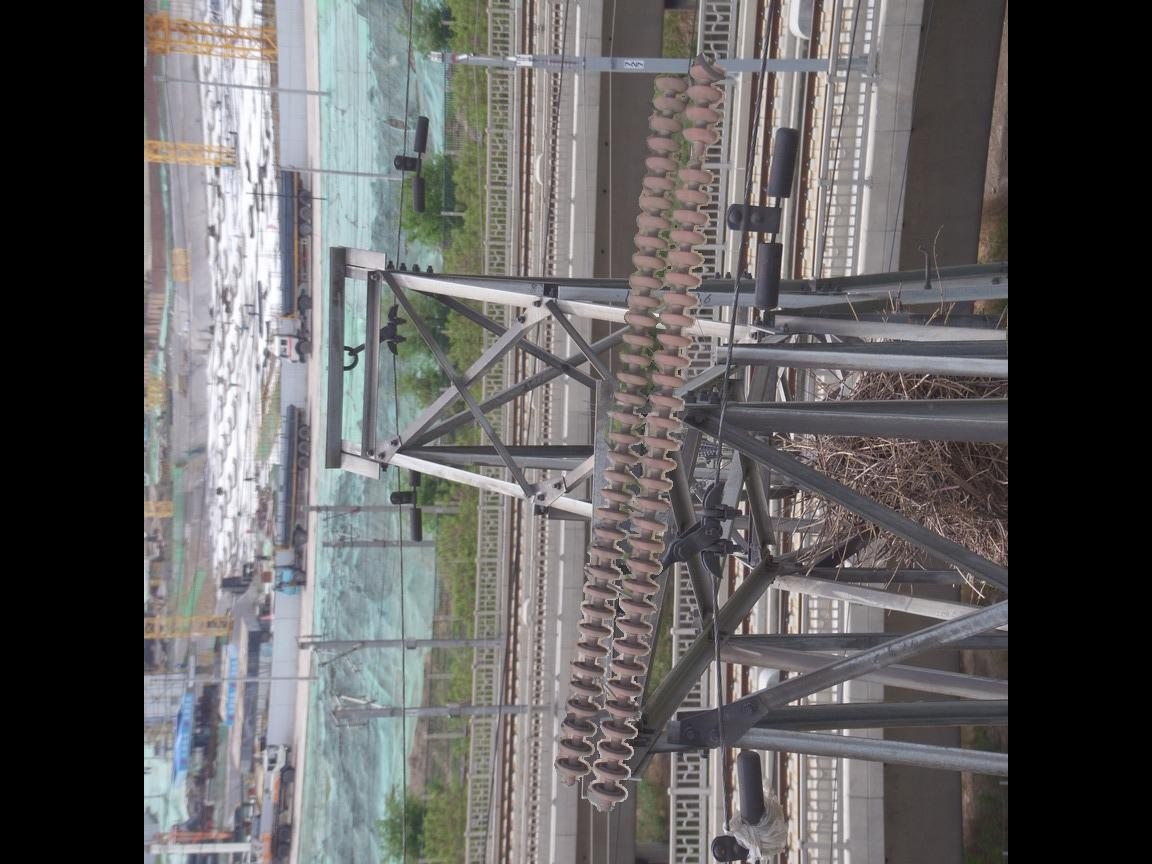insulator: (547, 54, 734, 817)
insulator_stringdrop: (673, 125, 721, 187)
